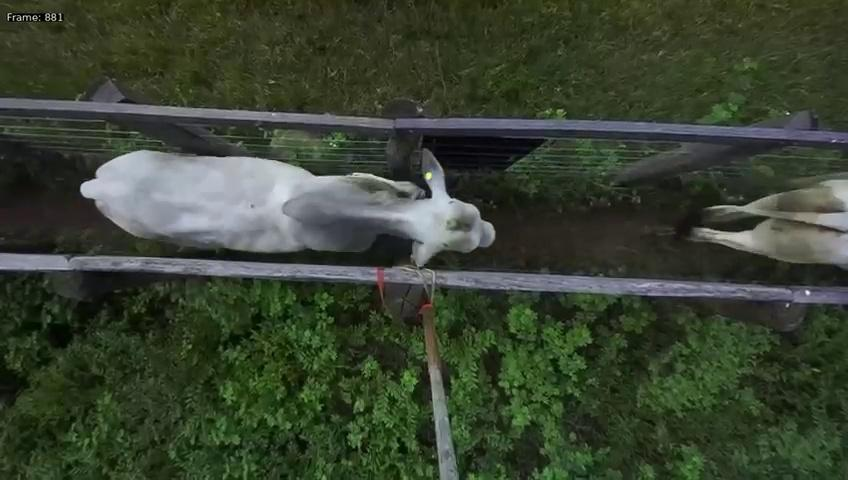cattle: (79, 133, 495, 268)
